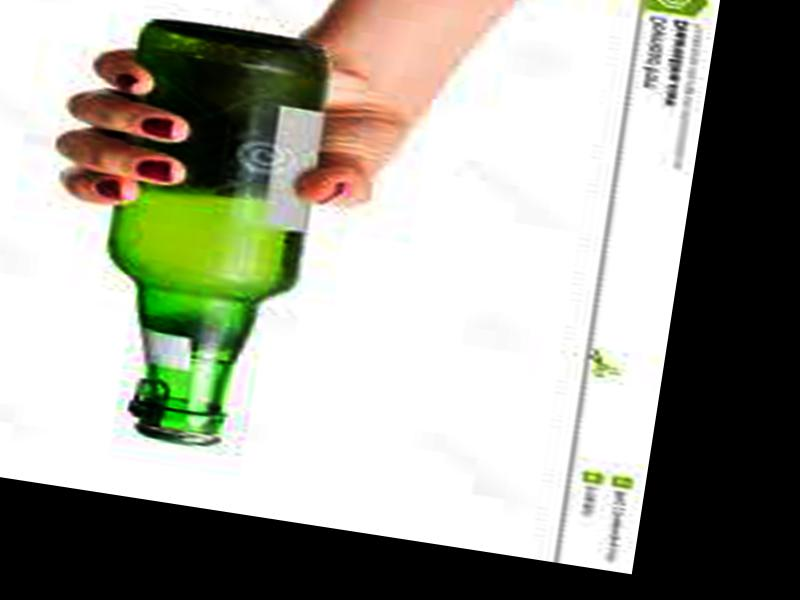Beer: (79, 14, 340, 461)
